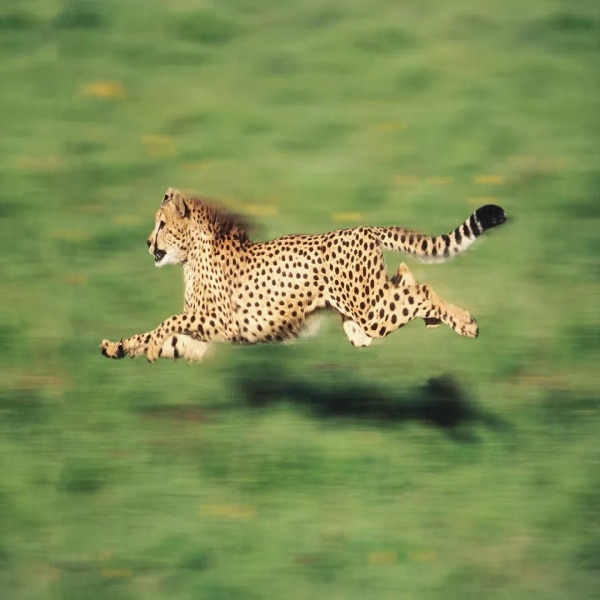Cheetah: (97, 183, 513, 366)
